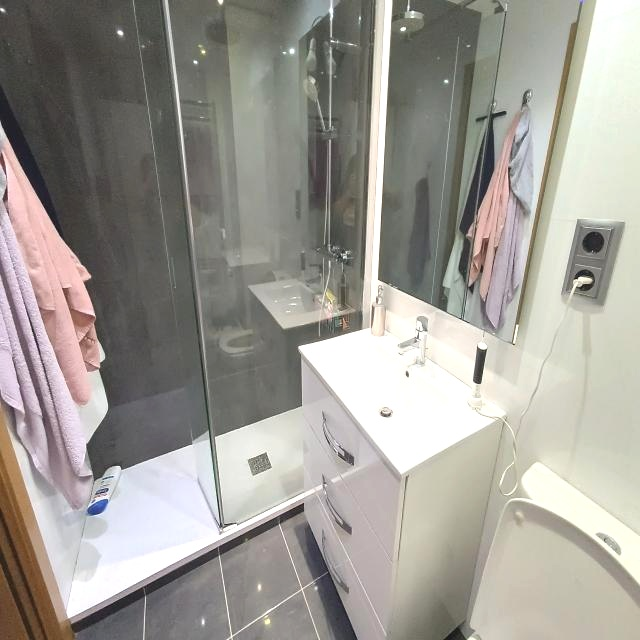cabinet: (301, 356, 503, 640)
table: (467, 462, 640, 640)
wardrobe: (298, 316, 507, 478)
